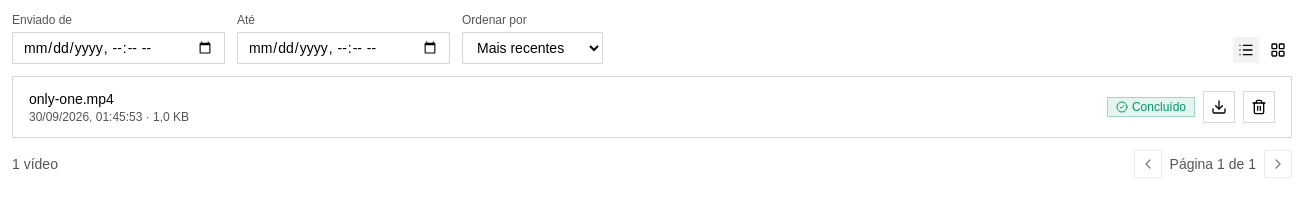
it: VideoList › mantém os filtros visíveis quando o período não tem vídeos
Expected: the text "only-one.mp4" is shown, [29,91,114,107]
Type "2020-01-01T00:00" into the field labelled "Até".
click(344, 48); type("2020-01-01T00:00")  # box [237,32,450,64]
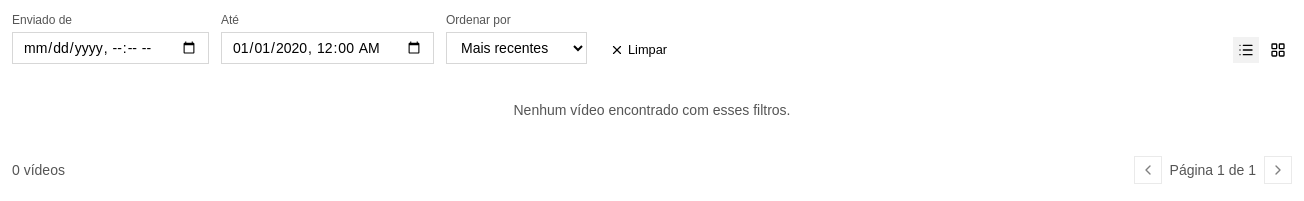
Now the text "Nenhum vídeo encontrado com esses filtros." is shown, box [514,102,790,118]
